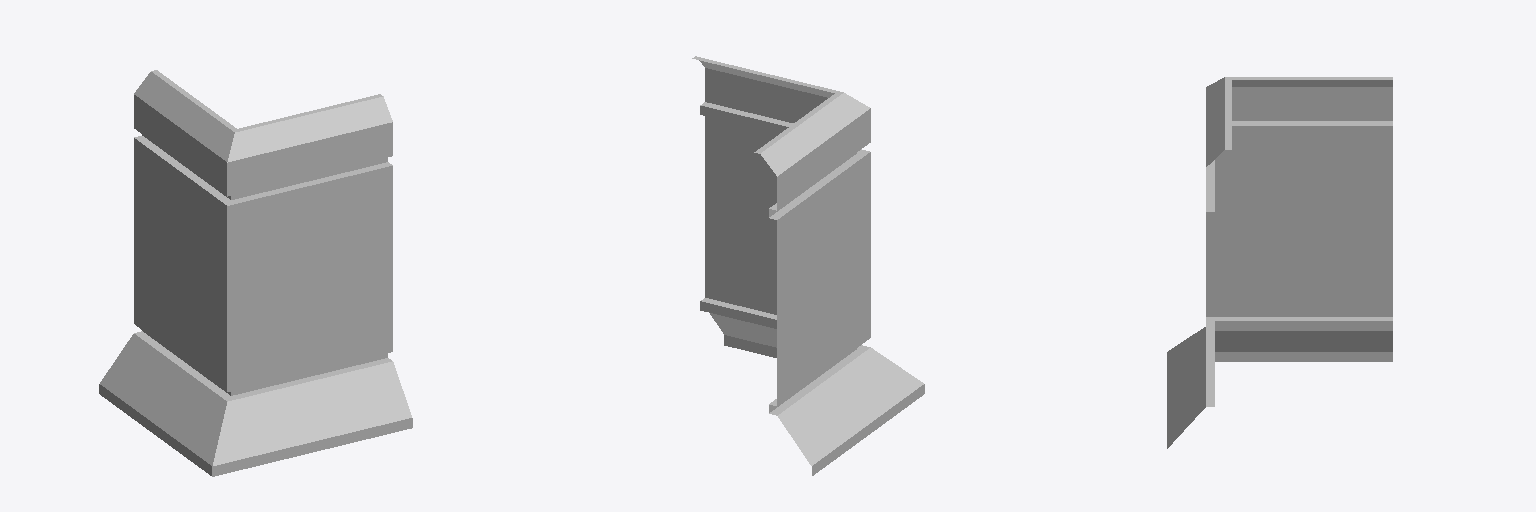
File: skirting-3.obj
3 views of the same model, side by side, from view 1: azimuth 30°, elevation 25°; view 2: azimuth 150°, elevation 25°; view 3: azimuth 270°, elevation 25° (orthographic).
Parts seen in each view (by area): view 1: SMB_Convex; view 2: SMB_Convex; view 3: SMB_Convex.
Part boxes in pixels (left/top/right/bottom): SMB_Convex: left=99, top=70, right=412, bottom=476; SMB_Convex: left=692, top=56, right=924, bottom=475; SMB_Convex: left=1167, top=77, right=1392, bottom=448.
Size of the model in its own units: 0.9704 by 1.44 by 0.9493.